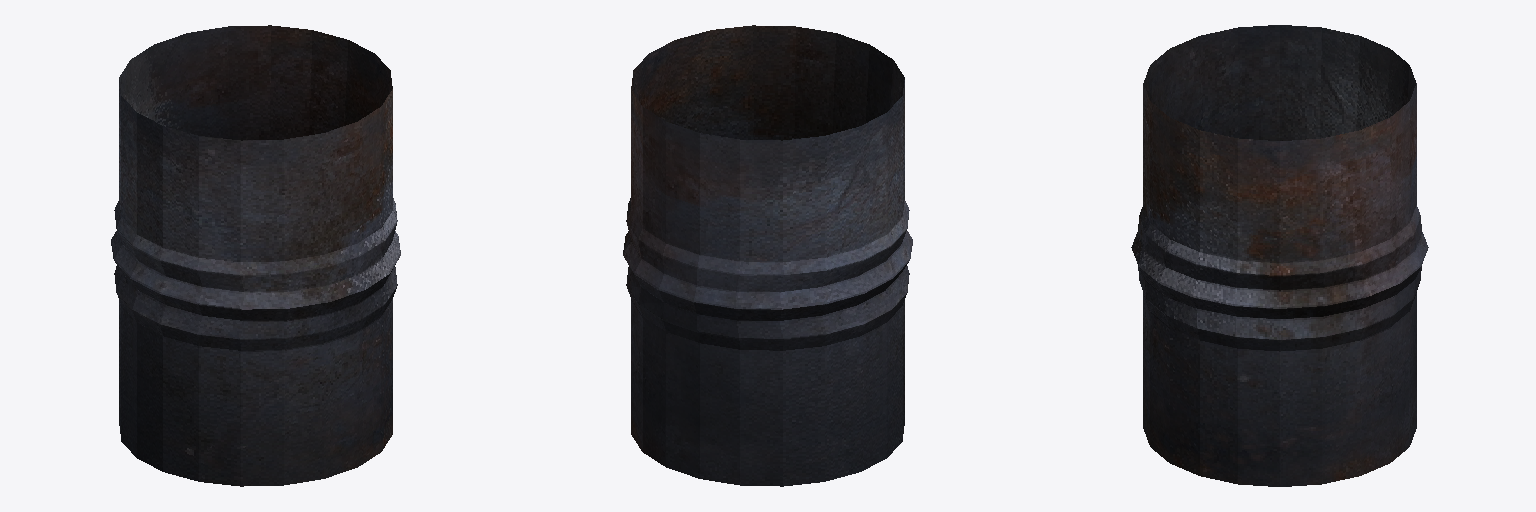
3 renders of one model, left to right at view 1: azimuth 30°, elevation 25°; view 2: azimuth 150°, elevation 25°; view 3: azimuth 270°, elevation 25°, orthographic.
Visible parts, largest first — view 1: Cylinder01; view 2: Cylinder01; view 3: Cylinder01.
Boxes of the visible parts, box(x1,y1,x2,y2) form: Cylinder01: box(111, 25, 400, 486); Cylinder01: box(623, 25, 912, 486); Cylinder01: box(1131, 25, 1428, 486).
Size of the model in its own units: 1.1 by 1.45 by 1.13.
Materials: 1 (1 with a texture image).